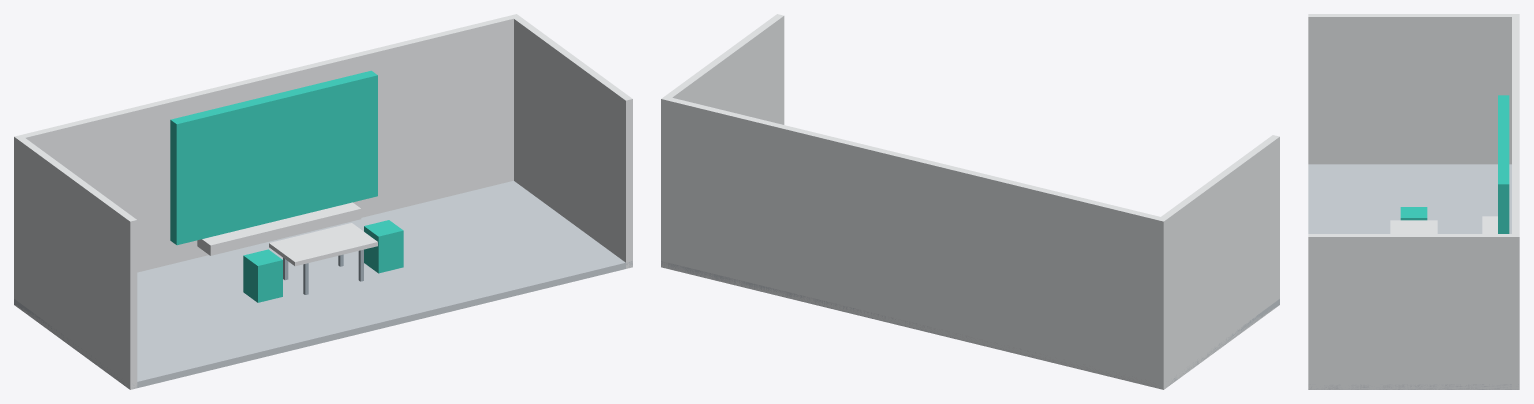
The picture shows the model from 3 angles, left to right: view 1: azimuth 30°, elevation 25°; view 2: azimuth 150°, elevation 25°; view 3: azimuth 270°, elevation 25°; orthographic projection. The views are drawn at different scales.
Visible parts, largest first — view 1: Exhibition Booth Concept; view 2: Exhibition Booth Concept; view 3: Exhibition Booth Concept.
Boxes of the visible parts, bbox=[...] form: Exhibition Booth Concept: bbox=[14, 14, 632, 389]; Exhibition Booth Concept: bbox=[661, 14, 1279, 389]; Exhibition Booth Concept: bbox=[1308, 14, 1519, 389].
Bounding box in the file's own units: 10 × 3.2 × 4.
